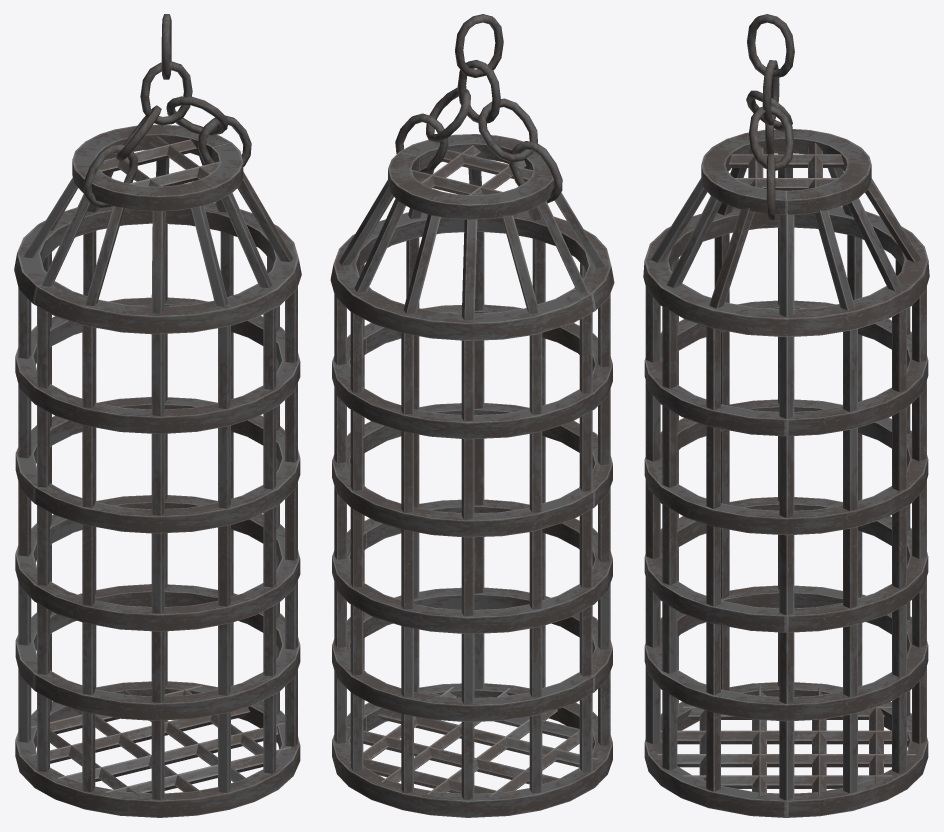
The model's file is Prop_CageHanging.fbx.
3 renders of one model, left to right at view 1: azimuth 30°, elevation 25°; view 2: azimuth 150°, elevation 25°; view 3: azimuth 270°, elevation 25°, orthographic.
Parts seen in each view (by area): view 1: CDTMesh_CageHanging; view 2: CDTMesh_CageHanging; view 3: CDTMesh_CageHanging.
Part boxes in pixels (x1=…): CDTMesh_CageHanging: x1=14, y1=14, x2=301, y2=817; CDTMesh_CageHanging: x1=330, y1=14, x2=614, y2=817; CDTMesh_CageHanging: x1=643, y1=14, x2=929, y2=817.
Size of what is drawn, in the model's own units: 1.46 by 4.18 by 1.46.
1 material, 1 textured.
